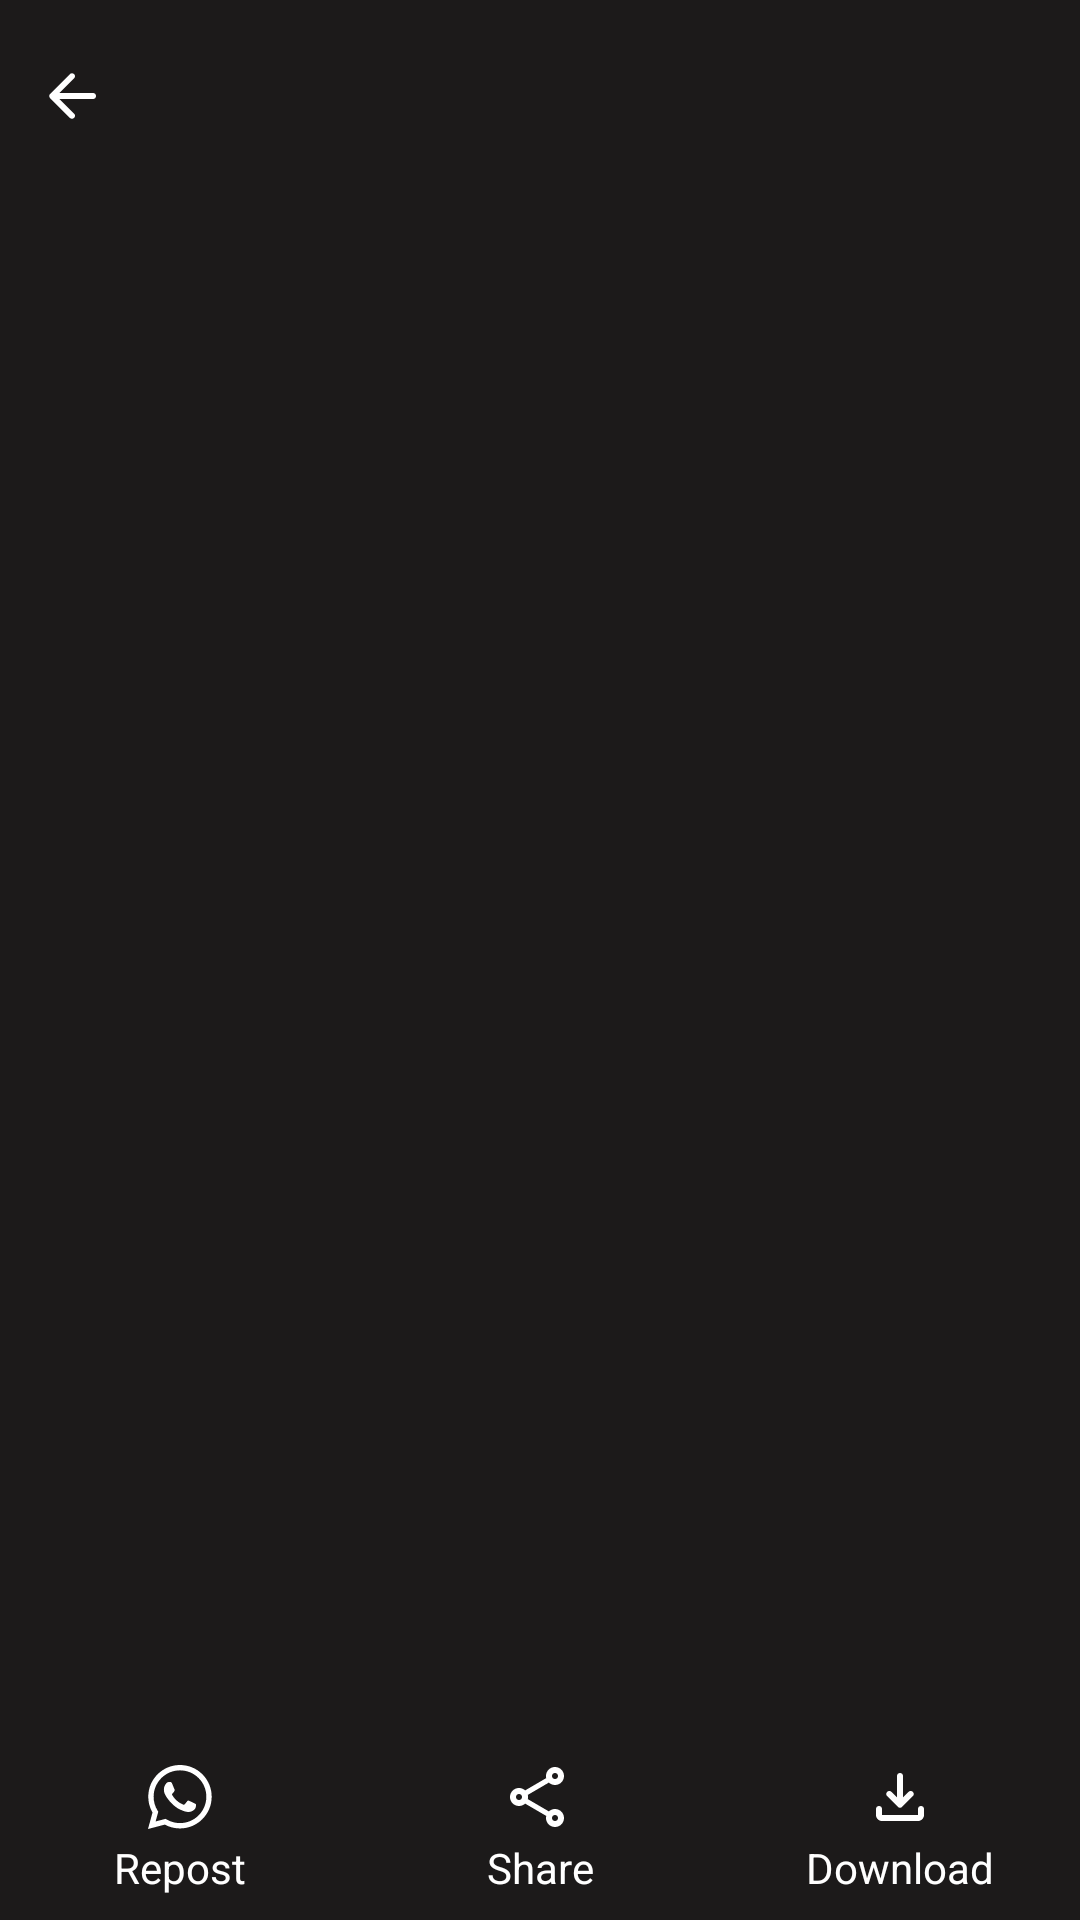

Locate icon controls on the screen. Image size 1080px×1920px, boxes as bbox=[x1, y1, x2, y2].
Back Button: bbox=[49, 73, 96, 119]
